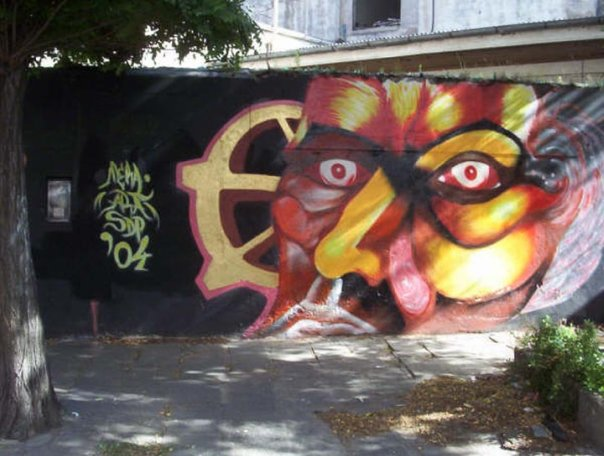graffity: (172, 68, 601, 343), (89, 155, 165, 277)
